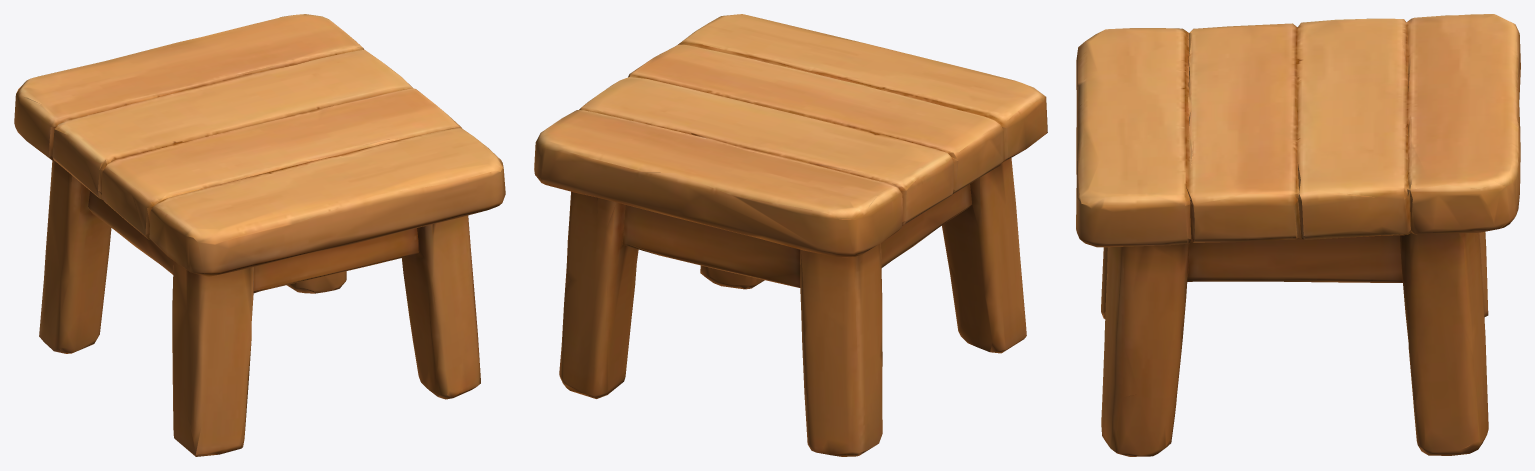
File: table01.glb
3 views of the same model, side by side, from view 1: azimuth 30°, elevation 25°; view 2: azimuth 150°, elevation 25°; view 3: azimuth 270°, elevation 25° (orthographic). The views are drawn at different scales.
Bounding box in the file's own units: 0.1806 × 0.1355 × 0.1929.
1 material, 1 textured.
